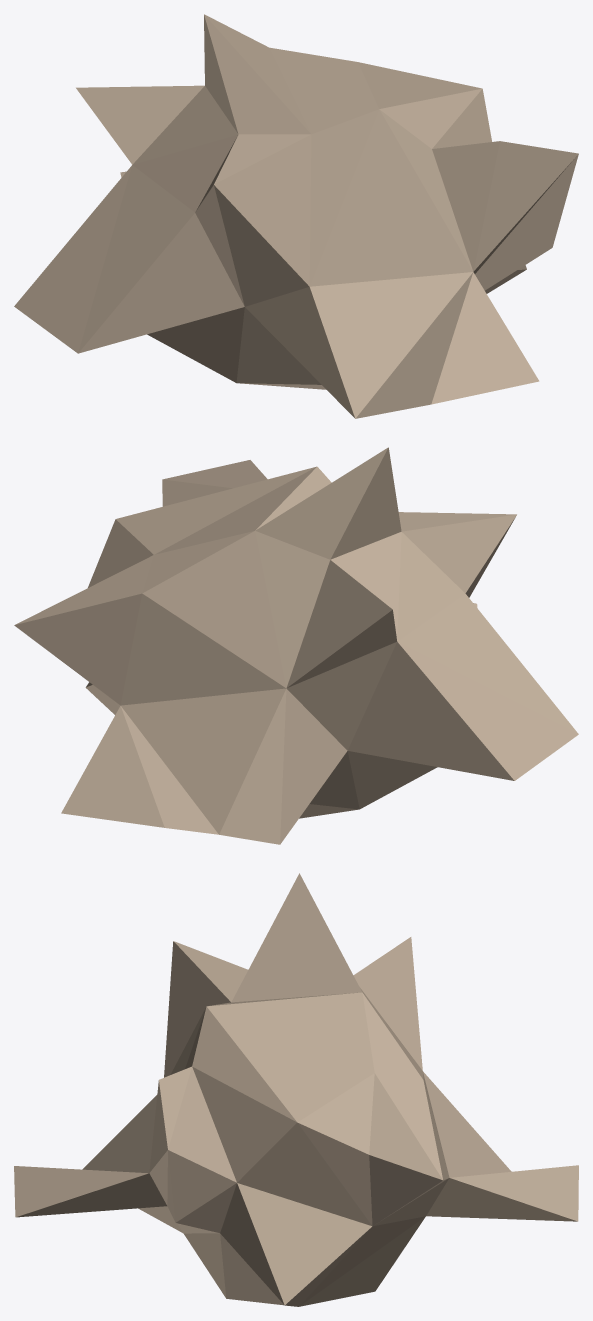
The picture shows the model from 3 angles, top to bottom: view 1: azimuth 30°, elevation 25°; view 2: azimuth 150°, elevation 25°; view 3: azimuth 270°, elevation 25°; orthographic projection. The views are drawn at different scales.
Parts seen in each view (by area): view 1: part0; view 2: part0; view 3: part0.
Boxes of the visible parts, x1,y1,x2,y2 form: part0: [14, 14, 578, 418]; part0: [14, 447, 578, 844]; part0: [14, 873, 578, 1306].
Size of the model in its own units: 4.07 by 3.24 by 4.66.
